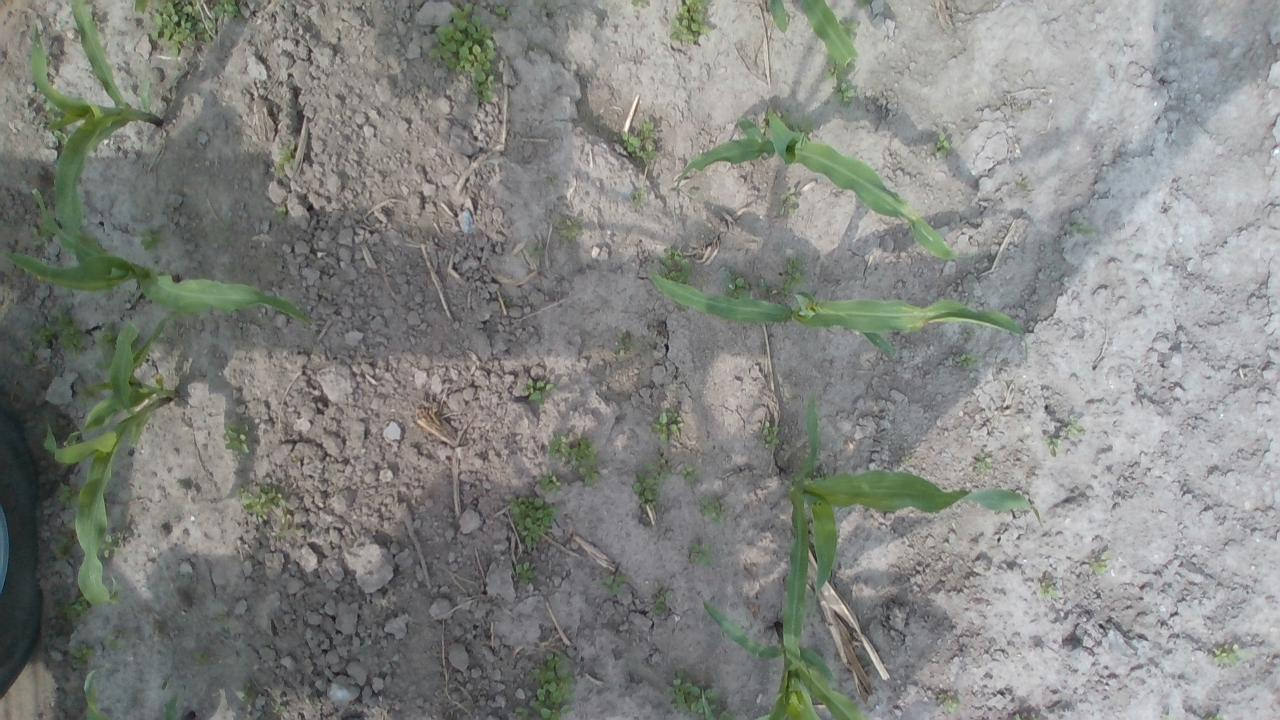Maize: (776, 392, 1044, 664), (673, 107, 976, 265), (0, 190, 318, 327), (44, 302, 180, 612), (644, 248, 1032, 356), (17, 0, 166, 253), (696, 592, 872, 720), (752, 0, 861, 68), (75, 675, 198, 720)
Weeds: (426, 3, 498, 102), (144, 0, 212, 55), (666, 668, 737, 720), (532, 652, 578, 720), (27, 307, 89, 356), (504, 492, 558, 547), (632, 458, 672, 507), (668, 0, 712, 44), (235, 482, 288, 518), (549, 432, 598, 466), (622, 122, 658, 164), (658, 246, 692, 286), (222, 420, 254, 457), (652, 410, 684, 444), (1211, 642, 1251, 668), (780, 254, 806, 294), (779, 109, 814, 136), (520, 377, 552, 404), (556, 213, 585, 242), (699, 494, 727, 524), (75, 379, 108, 404), (136, 225, 166, 252), (64, 594, 92, 622), (275, 142, 298, 176), (756, 419, 781, 450), (534, 469, 562, 496), (822, 56, 852, 81), (649, 582, 672, 614), (69, 642, 95, 670), (724, 272, 752, 298), (690, 540, 716, 567), (212, 0, 244, 21), (101, 628, 130, 651), (56, 482, 80, 509), (98, 530, 121, 558), (776, 188, 799, 216), (602, 573, 627, 597), (1088, 549, 1110, 575), (52, 536, 73, 562), (836, 16, 859, 39), (514, 561, 536, 585), (682, 464, 704, 487), (834, 82, 856, 105), (44, 99, 64, 124), (932, 130, 951, 156), (612, 330, 632, 354), (1038, 577, 1058, 601), (1062, 417, 1086, 437), (936, 692, 958, 713), (32, 223, 54, 243), (239, 680, 257, 704), (630, 185, 648, 209), (1043, 436, 1062, 458), (956, 352, 980, 369), (1072, 219, 1094, 236), (578, 466, 598, 484), (976, 453, 994, 473), (757, 276, 774, 296), (50, 127, 69, 144), (192, 650, 212, 666), (214, 610, 230, 627), (527, 242, 543, 258), (515, 706, 530, 720), (274, 206, 288, 219), (1016, 175, 1029, 189), (961, 328, 974, 342), (496, 4, 508, 19), (20, 348, 31, 364), (632, 0, 651, 9), (546, 172, 558, 186), (672, 301, 688, 311), (94, 358, 106, 371), (271, 704, 285, 714), (854, 0, 873, 7), (1203, 715, 1223, 720), (277, 530, 287, 539), (900, 455, 911, 463), (688, 188, 696, 194), (1015, 714, 1023, 720)
